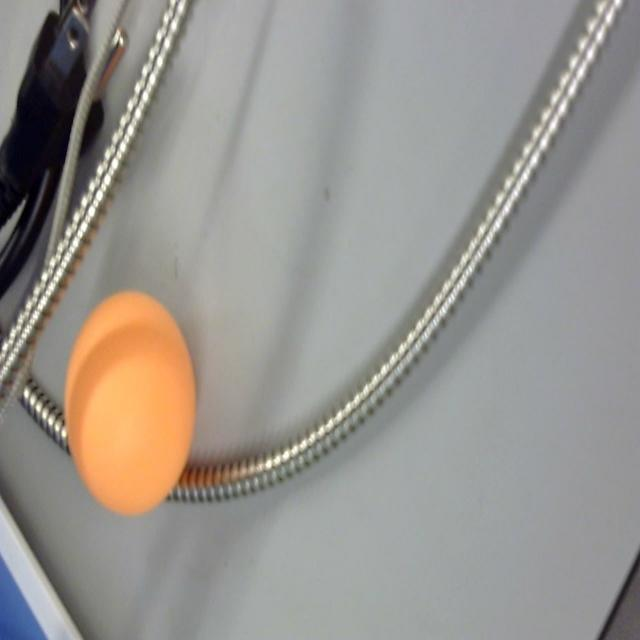ball: (62, 284, 200, 520)
